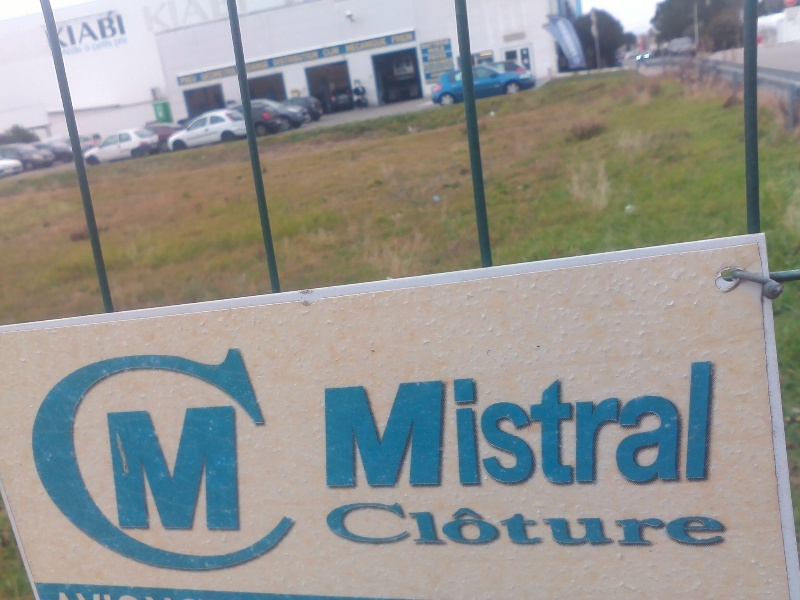text: (17, 338, 32, 574), (33, 338, 48, 574), (49, 338, 64, 574), (65, 338, 80, 574), (81, 338, 96, 574), (97, 338, 112, 574), (113, 338, 128, 574), (129, 338, 144, 574), (145, 338, 160, 574), (161, 338, 176, 574), (177, 338, 192, 574), (193, 338, 208, 574), (209, 338, 224, 574), (225, 338, 240, 574), (241, 338, 256, 574), (257, 338, 272, 574), (273, 338, 288, 574), (289, 338, 304, 574), (225, 406, 241, 532), (337, 361, 352, 490), (353, 361, 368, 490), (369, 361, 384, 490), (385, 361, 400, 490), (401, 361, 416, 490), (417, 361, 432, 490), (433, 361, 448, 490), (449, 361, 464, 490), (465, 361, 480, 490), (481, 361, 496, 490), (497, 361, 512, 490), (513, 361, 528, 490), (529, 361, 544, 490), (545, 361, 560, 490), (561, 361, 576, 490), (577, 361, 592, 490), (593, 361, 608, 490), (609, 361, 624, 490), (625, 361, 640, 490), (641, 361, 656, 490), (657, 361, 672, 490), (673, 361, 688, 490), (689, 361, 704, 490), (113, 406, 128, 532), (129, 406, 144, 532), (145, 406, 160, 532), (161, 406, 176, 532), (177, 406, 192, 532), (193, 406, 208, 532), (209, 406, 224, 532), (323, 361, 336, 490), (11, 338, 16, 574), (305, 338, 310, 574), (705, 361, 714, 490), (104, 406, 112, 532), (401, 31, 417, 87), (177, 31, 192, 87), (193, 31, 208, 87), (209, 31, 224, 87), (225, 31, 240, 87), (241, 31, 256, 87), (257, 31, 272, 87), (273, 31, 288, 87), (289, 31, 304, 87), (305, 31, 320, 87), (321, 31, 336, 87), (337, 31, 352, 87), (353, 31, 368, 87), (369, 31, 384, 87), (385, 31, 400, 87), (433, 38, 448, 86), (337, 502, 352, 549), (353, 502, 368, 549), (369, 502, 384, 549), (385, 502, 400, 549), (401, 502, 416, 549), (417, 502, 432, 549), (433, 502, 448, 549), (449, 502, 464, 549), (465, 502, 480, 549), (481, 502, 496, 549), (497, 502, 512, 549), (513, 502, 528, 549), (529, 502, 544, 549), (545, 502, 560, 549), (561, 502, 576, 549), (577, 502, 592, 549), (593, 502, 608, 549), (609, 502, 624, 549), (625, 502, 640, 549), (641, 502, 656, 549), (657, 502, 672, 549), (673, 502, 688, 549), (689, 502, 704, 549), (705, 502, 720, 549), (49, 9, 64, 52), (65, 9, 80, 52), (81, 9, 96, 52), (97, 9, 112, 52), (113, 9, 127, 52), (420, 38, 432, 86), (325, 502, 336, 549), (145, 1, 160, 34), (161, 1, 176, 34), (177, 1, 192, 34), (193, 1, 208, 34), (209, 1, 224, 34), (225, 1, 240, 34), (241, 1, 256, 34), (257, 1, 272, 34), (564, 20, 576, 58), (113, 37, 129, 57), (65, 37, 80, 57), (81, 37, 96, 57), (97, 37, 112, 57), (449, 38, 455, 86), (721, 502, 727, 549), (577, 20, 581, 58), (273, 1, 277, 34), (141, 1, 144, 34), (46, 9, 48, 52), (61, 37, 64, 57)
